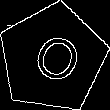O_SW: (22, 26, 83, 91)
